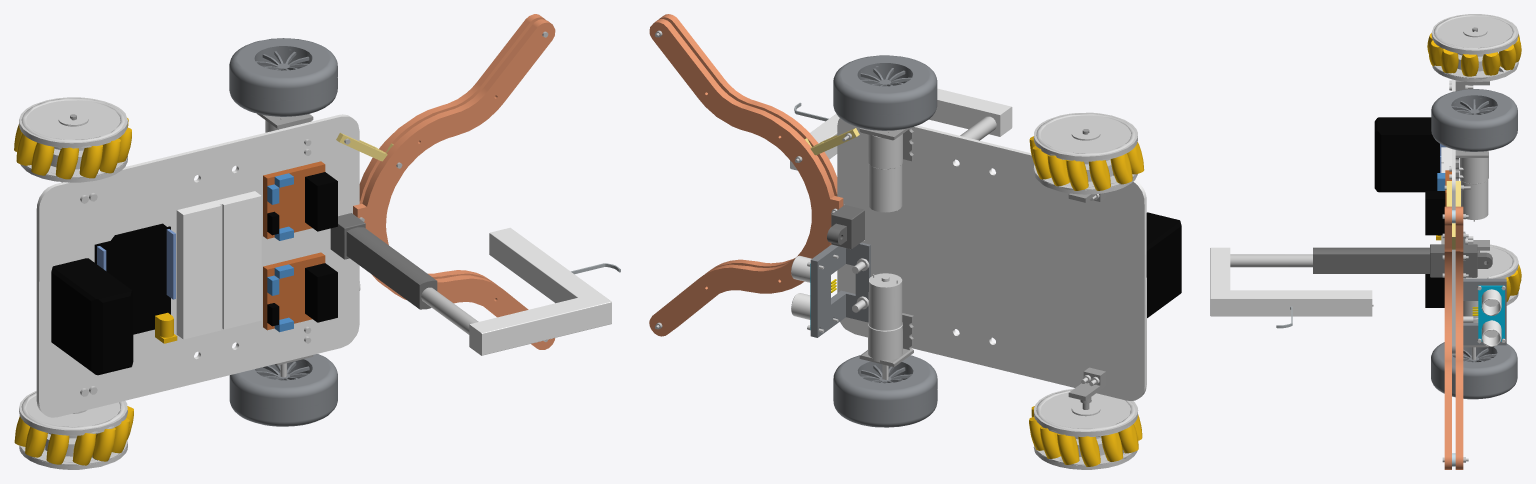
The model's file is otv.glb.
The picture shows the model from 3 angles, left to right: view 1: azimuth 30°, elevation 25°; view 2: azimuth 150°, elevation 25°; view 3: azimuth 270°, elevation 25°; orthographic projection. The views are drawn at different scales.
Parts seen in each view (by area): view 1: Part 4; view 2: Part 4; view 3: Part 4.
Part boxes in pixels (<box>): Part 4: <box>14,14,620,469</box>; Part 4: <box>649,14,1181,469</box>; Part 4: <box>1210,14,1521,469</box>.
Bounding box in the file's own units: 0.3549 × 0.2294 × 0.2326.
Materials: 1 (1 with a texture image).
